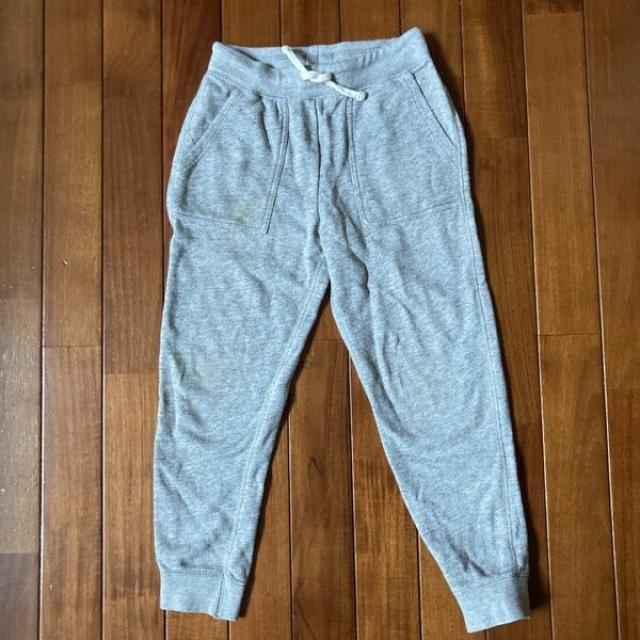long-pants: (153, 26, 530, 635)
